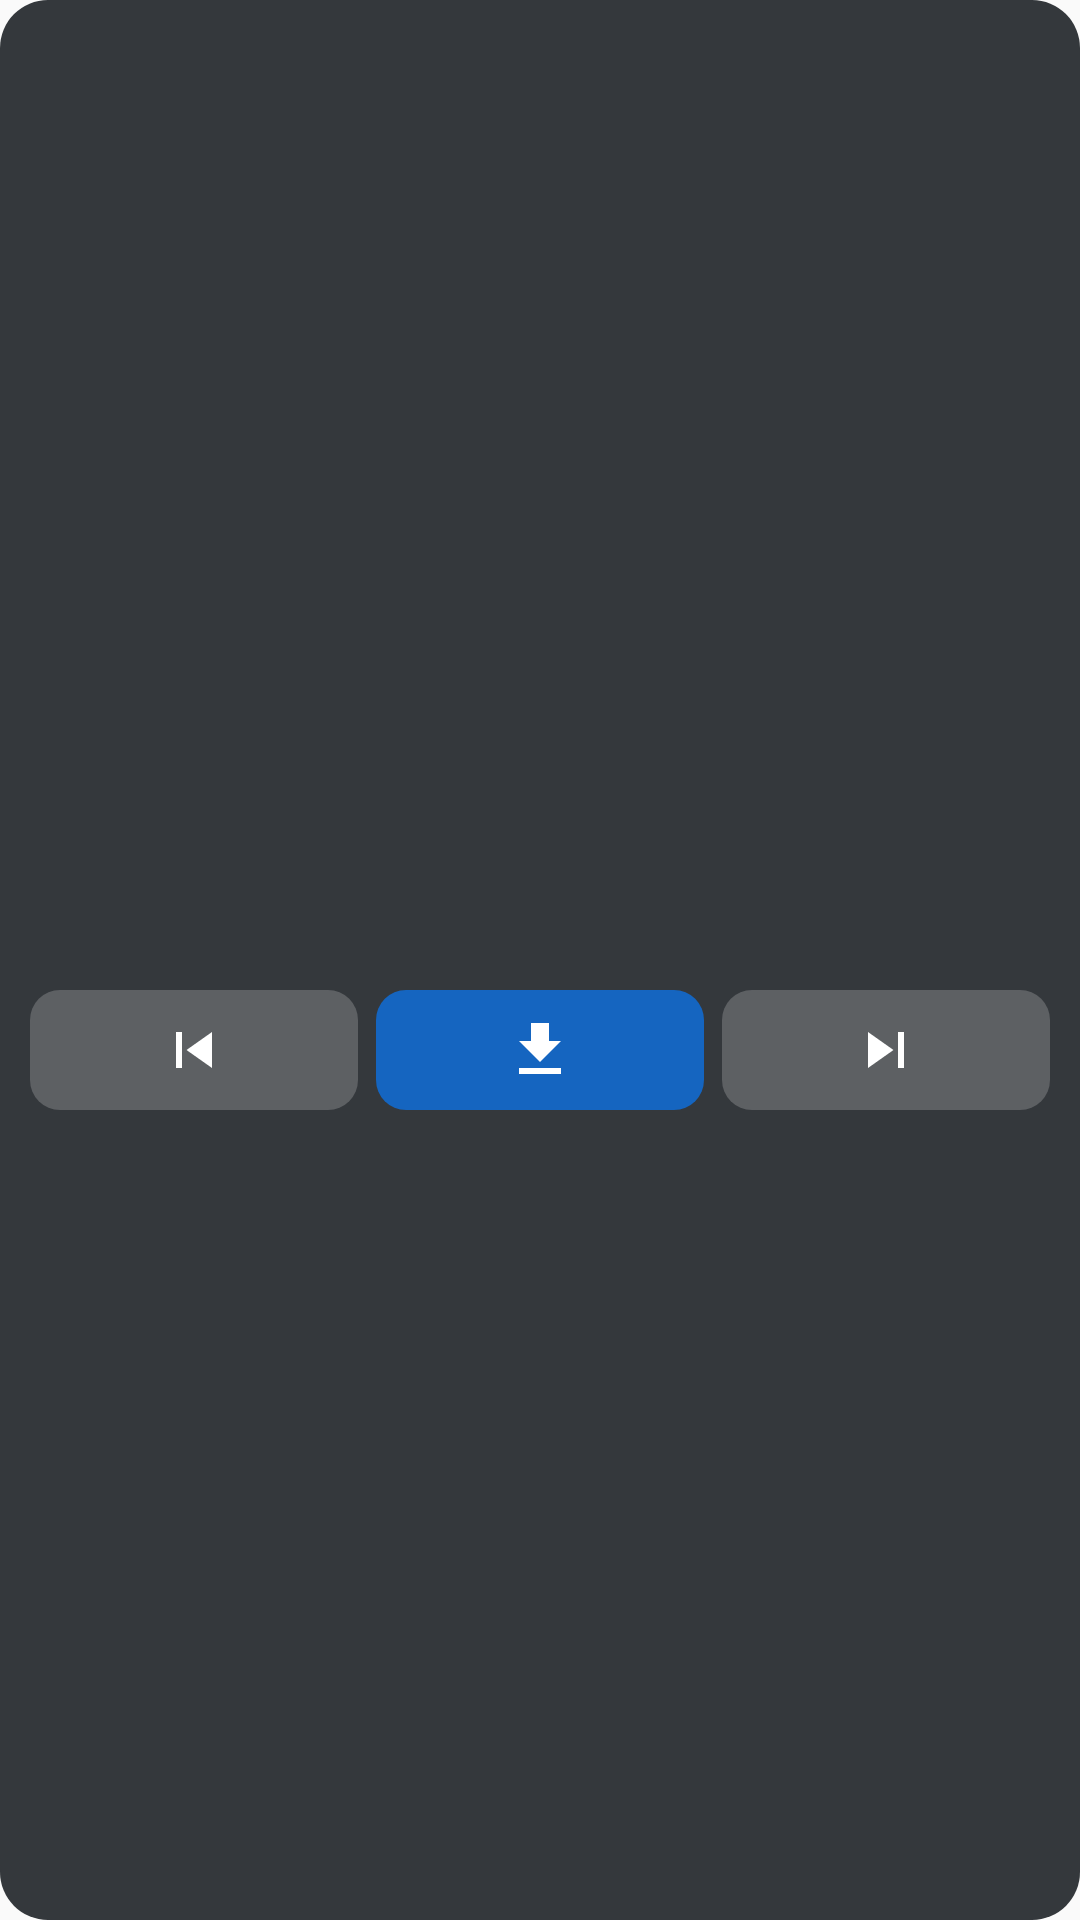

Screen size 1080*1920. Icon name, then its box in pixels as (x1, y1, x2, y2):
Next image: (722, 990, 1050, 1110)
Previous image: (30, 990, 358, 1110)
